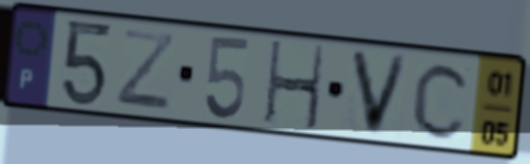5: (58, 15, 115, 108), (202, 34, 252, 122)
C: (408, 59, 475, 143)
H: (261, 38, 328, 134)
V: (346, 46, 413, 140)
Z: (113, 26, 178, 115)
